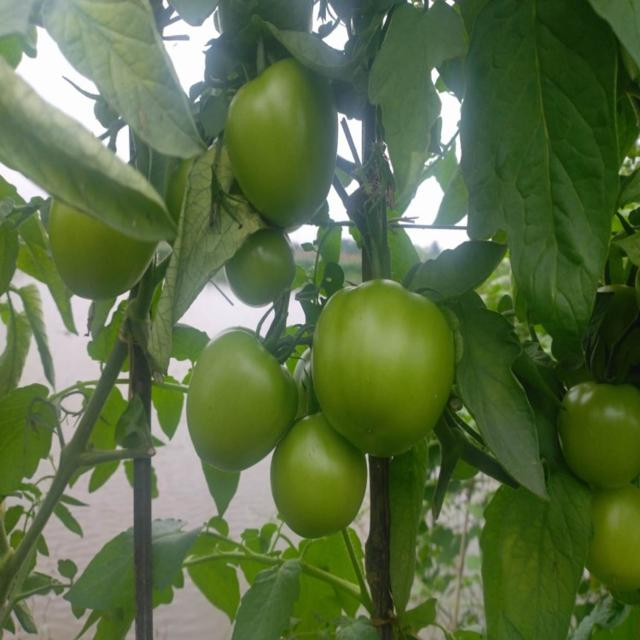tomato: (314, 281, 451, 459), (233, 56, 344, 218), (190, 330, 296, 463), (271, 421, 367, 532), (45, 209, 148, 301), (557, 385, 640, 490), (585, 490, 640, 598), (230, 239, 295, 312)
